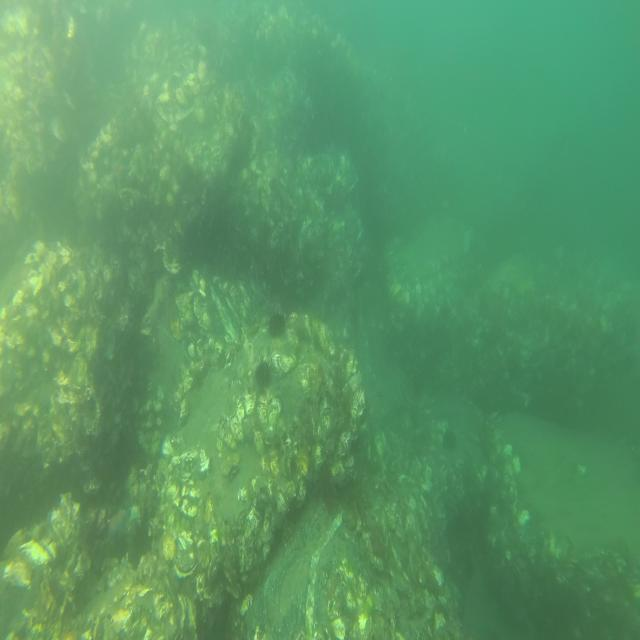echinus: (253, 358, 274, 393), (106, 510, 128, 538), (267, 310, 287, 337), (441, 428, 459, 455)
starfish: (110, 158, 129, 185)
